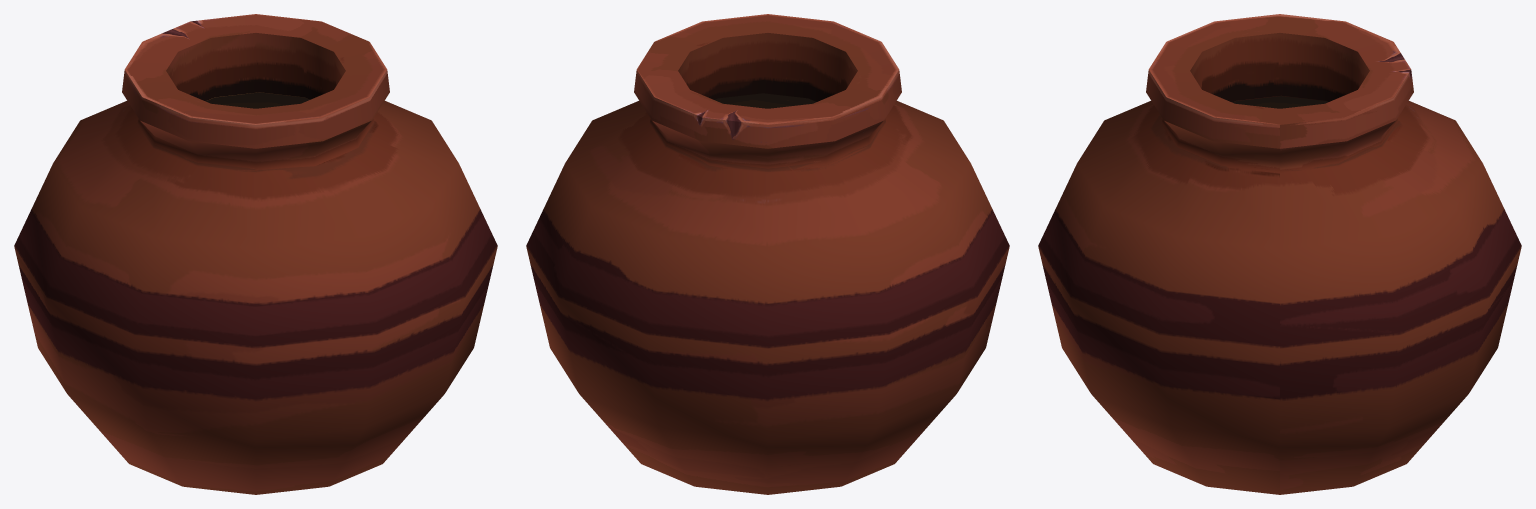
The model's file is SM_PROP_pot_dungeon_06.fbx.
3 views of the same model, side by side, from view 1: azimuth 30°, elevation 25°; view 2: azimuth 150°, elevation 25°; view 3: azimuth 270°, elevation 25° (orthographic).
Visible parts, largest first — view 1: SM_PROP_pot_dungeon_06; view 2: SM_PROP_pot_dungeon_06; view 3: SM_PROP_pot_dungeon_06.
Part boxes in pixels (x1,y1,x2,y2): SM_PROP_pot_dungeon_06: (14, 14, 497, 494); SM_PROP_pot_dungeon_06: (526, 14, 1009, 494); SM_PROP_pot_dungeon_06: (1038, 14, 1521, 494).
Size of the model in its own units: 40.59 by 33.66 by 40.59.
